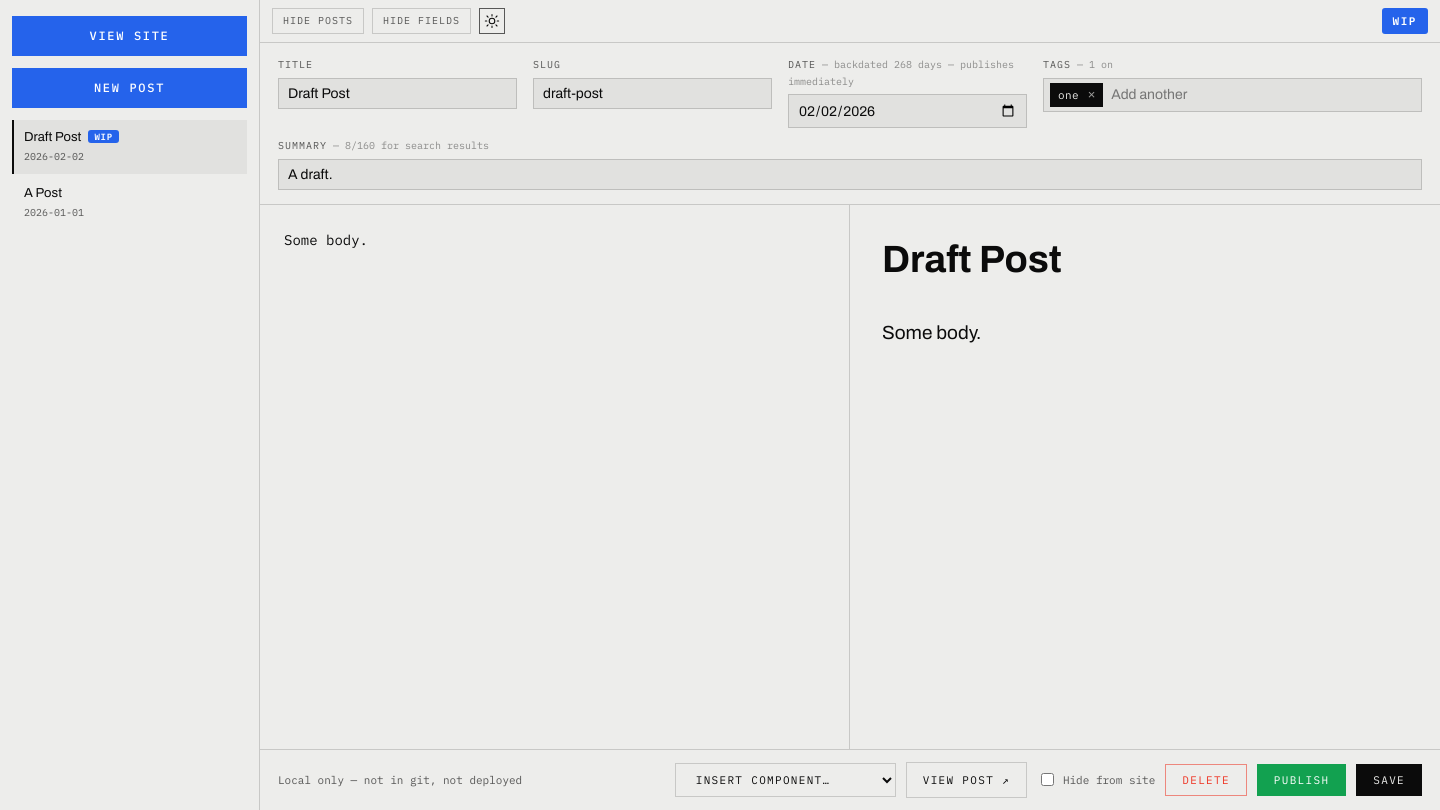
Test case: the tag picker › offers the tags already in use, minus the ones on this post
Click the dropdown labelled "Tags — 1 on" at (1262, 95), box [1108, 83, 1415, 106]
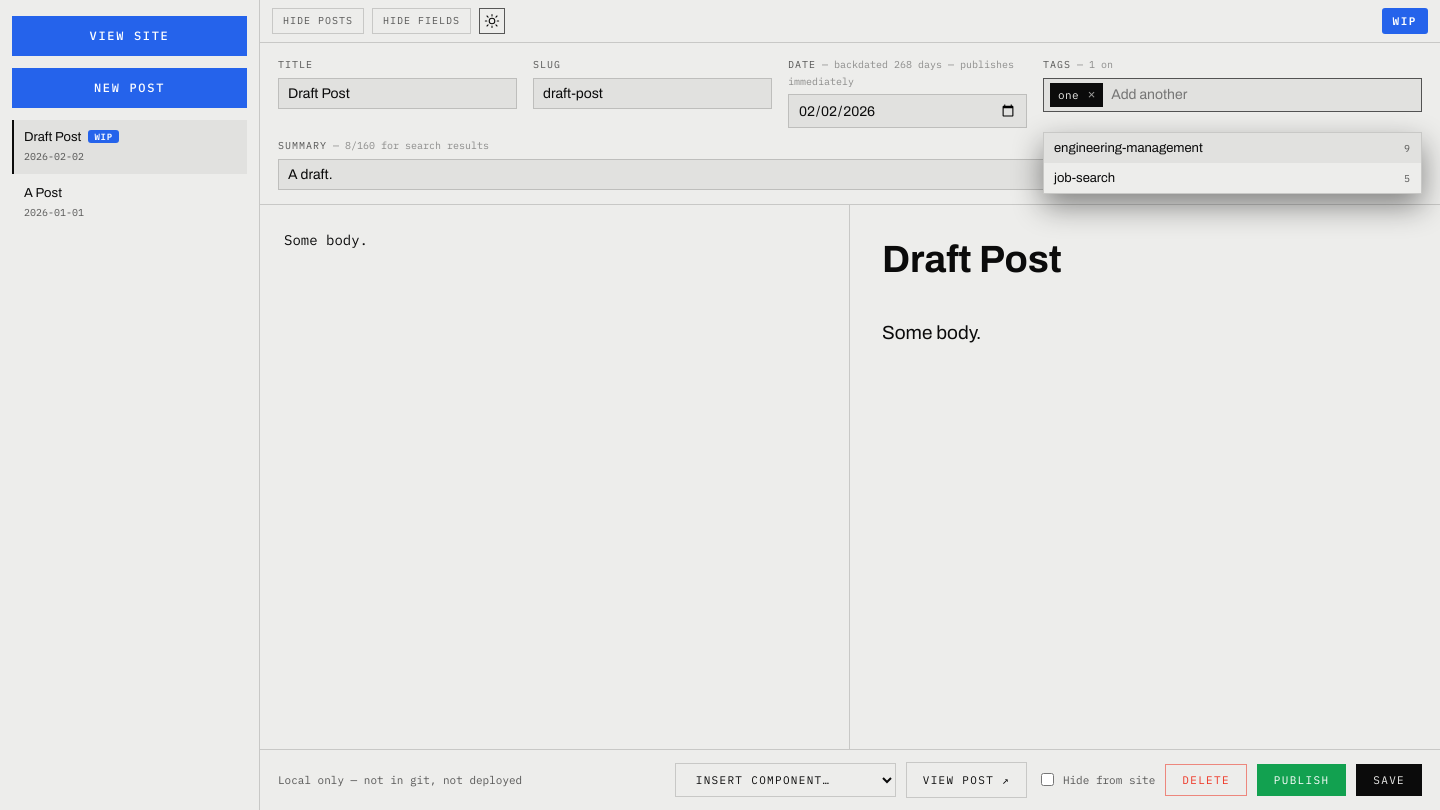
expect the option "engineering-management 9" is shown: met, box [1044, 133, 1421, 163]
